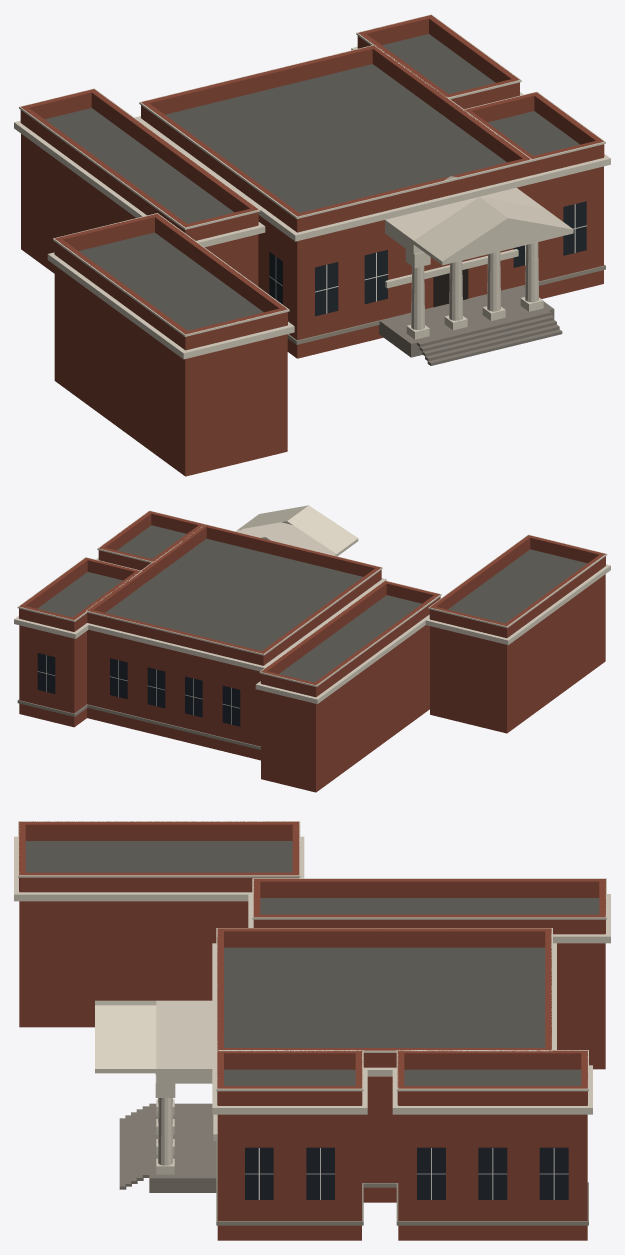
The model's file is parnell-hall-1961.glb.
The picture shows the model from 3 angles, top to bottom: view 1: azimuth 30°, elevation 25°; view 2: azimuth 150°, elevation 25°; view 3: azimuth 270°, elevation 25°; orthographic projection. The views are drawn at different scales.
Parts seen in each view (by area): view 1: parnell_brick, parnell_tar, parnell_trim, parnell_base, parnell_glass, parnell_stone, parnell_dark; view 2: parnell_brick, parnell_tar, parnell_trim, parnell_glass, parnell_stone; view 3: parnell_brick, parnell_tar, parnell_trim, parnell_glass, parnell_base, parnell_stone, parnell_sash.
Part boxes in pixels (left/top/right/bottom): parnell_brick: left=20, top=15, right=604, bottom=476; parnell_tar: left=45, top=34, right=579, bottom=330; parnell_trim: left=14, top=14, right=610, bottom=359; parnell_base: left=379, top=286, right=562, bottom=365; parnell_glass: left=269, top=201, right=586, bottom=316; parnell_stone: left=287, top=264, right=605, bottom=344; parnell_dark: left=433, top=269, right=468, bottom=307; parnell_brick: left=19, top=511, right=605, bottom=792; parnell_tar: left=37, top=525, right=587, bottom=682; parnell_trim: left=14, top=505, right=610, bottom=703; parnell_glass: left=37, top=653, right=240, bottom=726; parnell_stone: left=17, top=699, right=260, bottom=749; parnell_brick: left=19, top=821, right=605, bottom=1240; parnell_tar: left=25, top=841, right=599, bottom=1085; parnell_trim: left=14, top=821, right=610, bottom=1174; parnell_glass: left=245, top=1147, right=568, bottom=1199; parnell_base: left=119, top=1103, right=217, bottom=1192; parnell_stone: left=216, top=1141, right=588, bottom=1225; parnell_sash: left=245, top=1148, right=568, bottom=1199.
Bounding box in the file's own units: 35.6 × 9.5 × 33.1.
